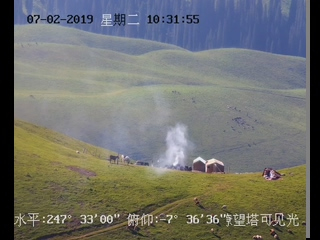smoke: (148, 110, 194, 173)
